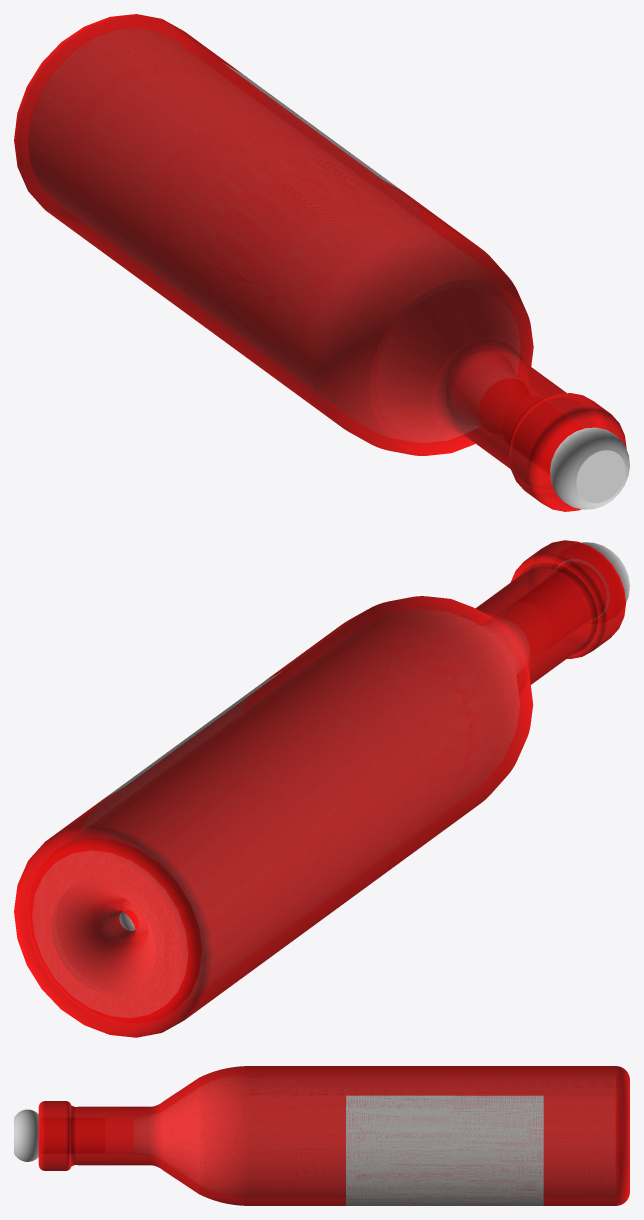
The model's file is model_align.obj.
3 renders of one model, top to bottom at view 1: azimuth 30°, elevation 25°; view 2: azimuth 150°, elevation 25°; view 3: azimuth 270°, elevation 25°, orthographic. The views are drawn at different scales.
Parts seen in each view (by area): view 1: mesh1_mesh1-geometry, mesh2_mesh2-geometry; view 2: mesh1_mesh1-geometry, mesh2_mesh2-geometry; view 3: mesh1_mesh1-geometry, mesh2_mesh2-geometry.
Part boxes in pixels (box(x1,y1,x2,y2)): mesh1_mesh1-geometry: box(14, 14, 626, 511); mesh2_mesh2-geometry: box(550, 427, 629, 509); mesh1_mesh1-geometry: box(14, 540, 625, 1037); mesh2_mesh2-geometry: box(555, 542, 629, 620); mesh1_mesh1-geometry: box(38, 1066, 629, 1205); mesh2_mesh2-geometry: box(14, 1109, 39, 1161).
Size of the model in its own units: 0.0335 by 0.0335 by 0.1469.
